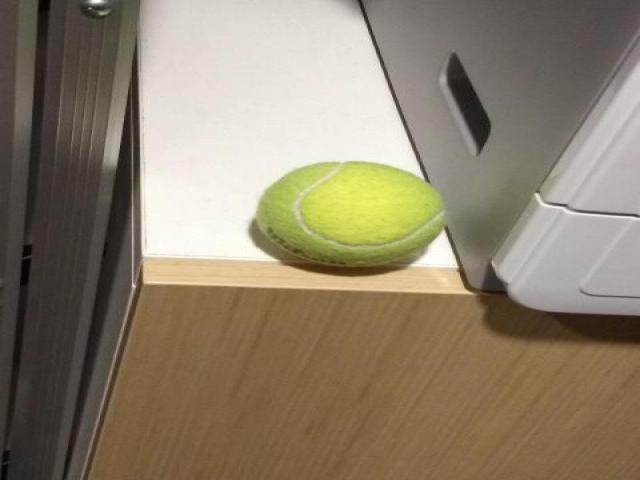tennis-ball: (254, 160, 447, 268)
